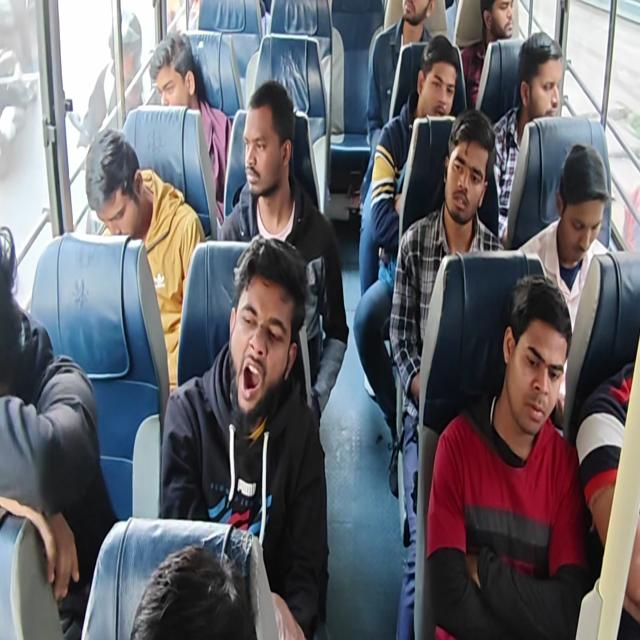person: (217, 234, 311, 437), (504, 266, 578, 457), (133, 533, 252, 640), (555, 139, 627, 268), (84, 116, 146, 247), (238, 77, 292, 207), (1, 219, 38, 388), (443, 116, 500, 222), (514, 31, 572, 123), (144, 32, 208, 111), (413, 30, 464, 116), (472, 0, 531, 49), (396, 0, 438, 27)
